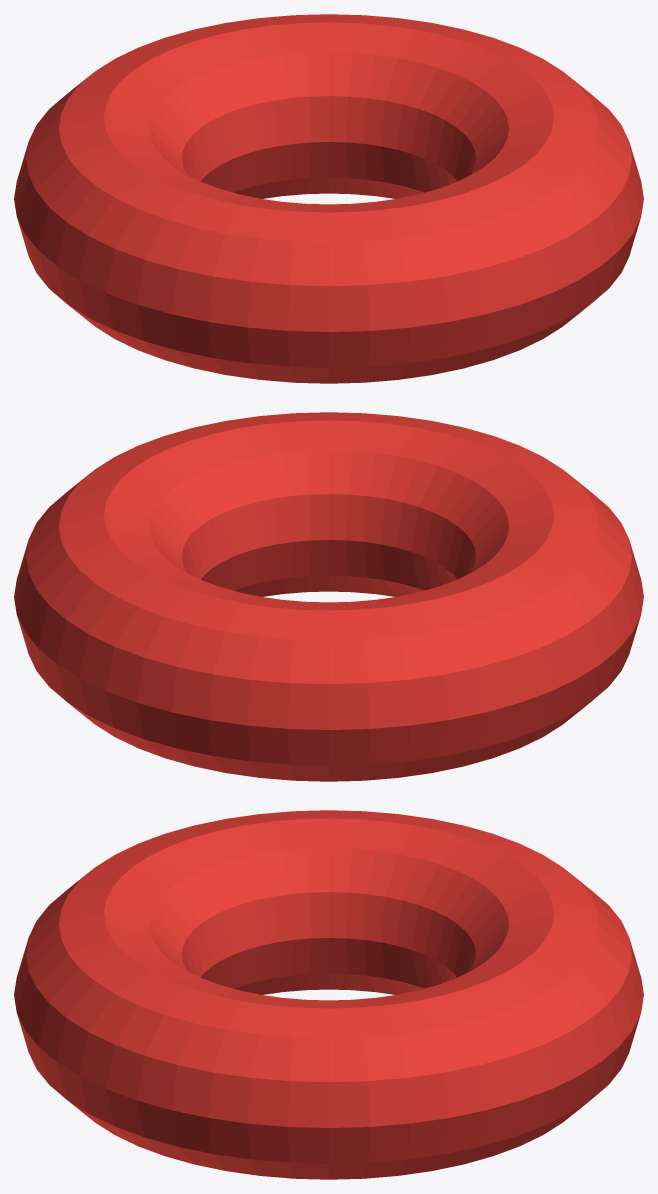
File: 11_torus_blender.glb
The picture shows the model from 3 angles, top to bottom: view 1: azimuth 30°, elevation 25°; view 2: azimuth 150°, elevation 25°; view 3: azimuth 270°, elevation 25°; orthographic projection.
Visible parts, largest first — view 1: Torus; view 2: Torus; view 3: Torus.
Part boxes in pixels (x1,y1,x2,y2): Torus: (14,14,643,383); Torus: (14,412,643,781); Torus: (14,810,643,1179).
Size of the model in its own units: 0.7 by 0.2 by 0.7.
